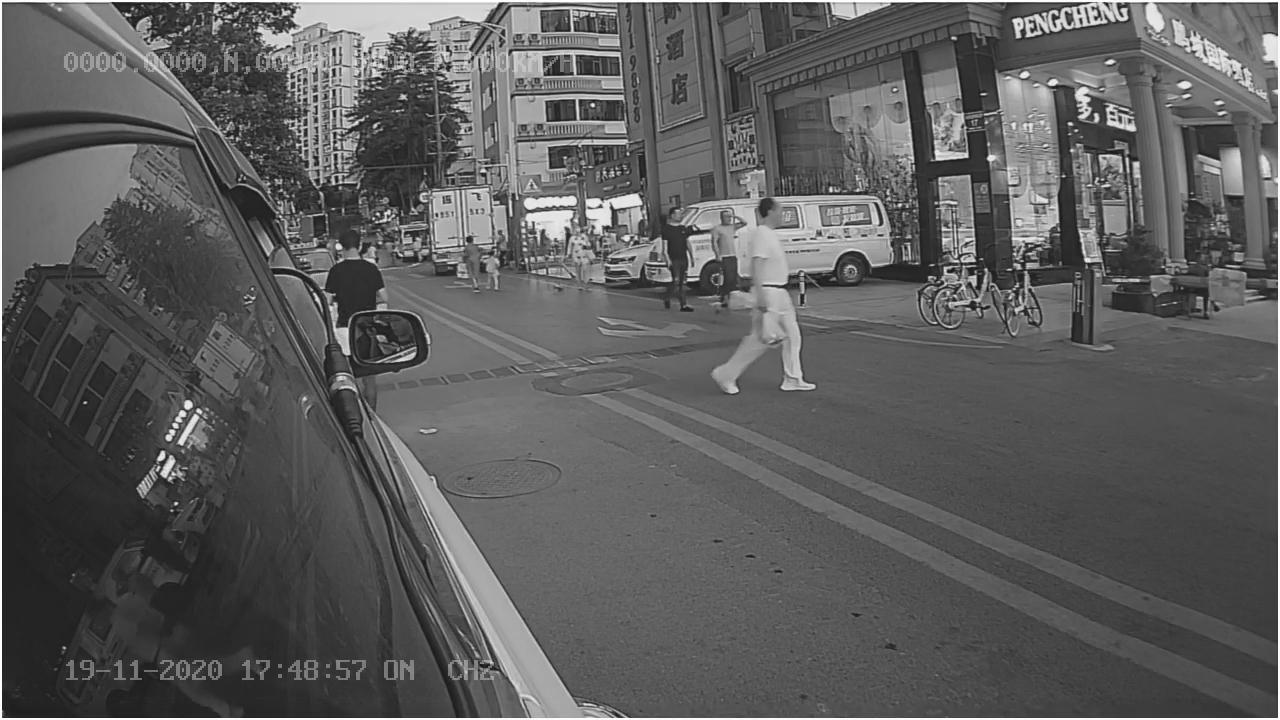person: (721, 202, 817, 399)
